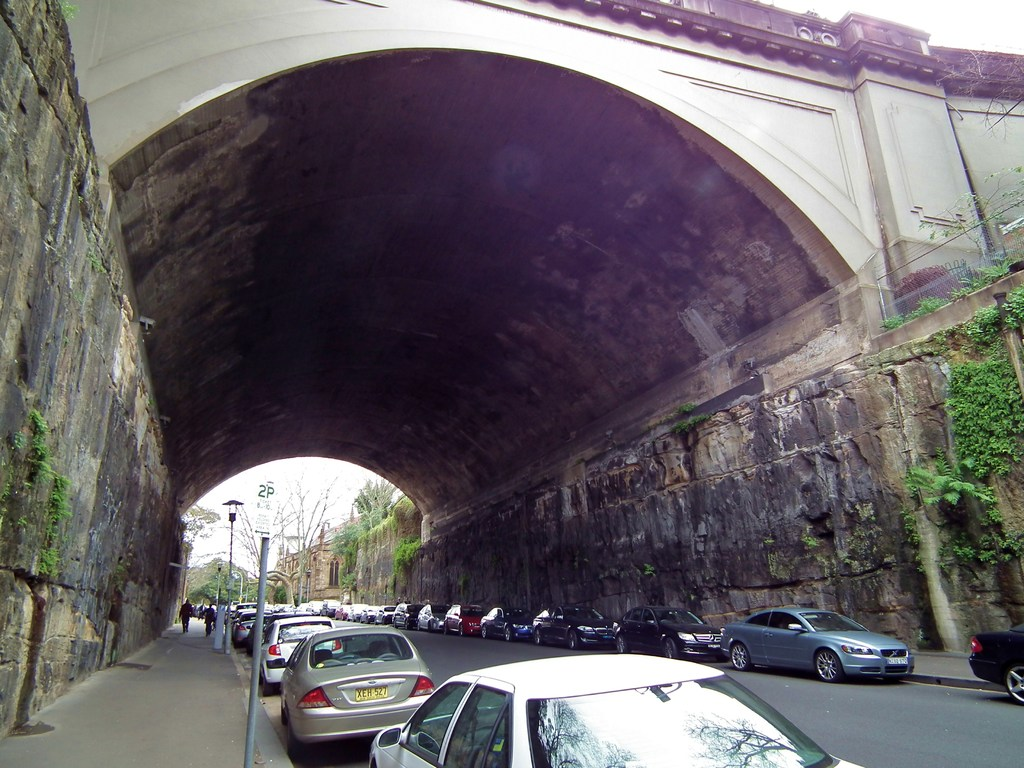car: (366, 640, 881, 768), (267, 608, 456, 758), (703, 578, 928, 697), (609, 582, 744, 668), (528, 590, 632, 658), (473, 594, 552, 649), (442, 596, 497, 641)
